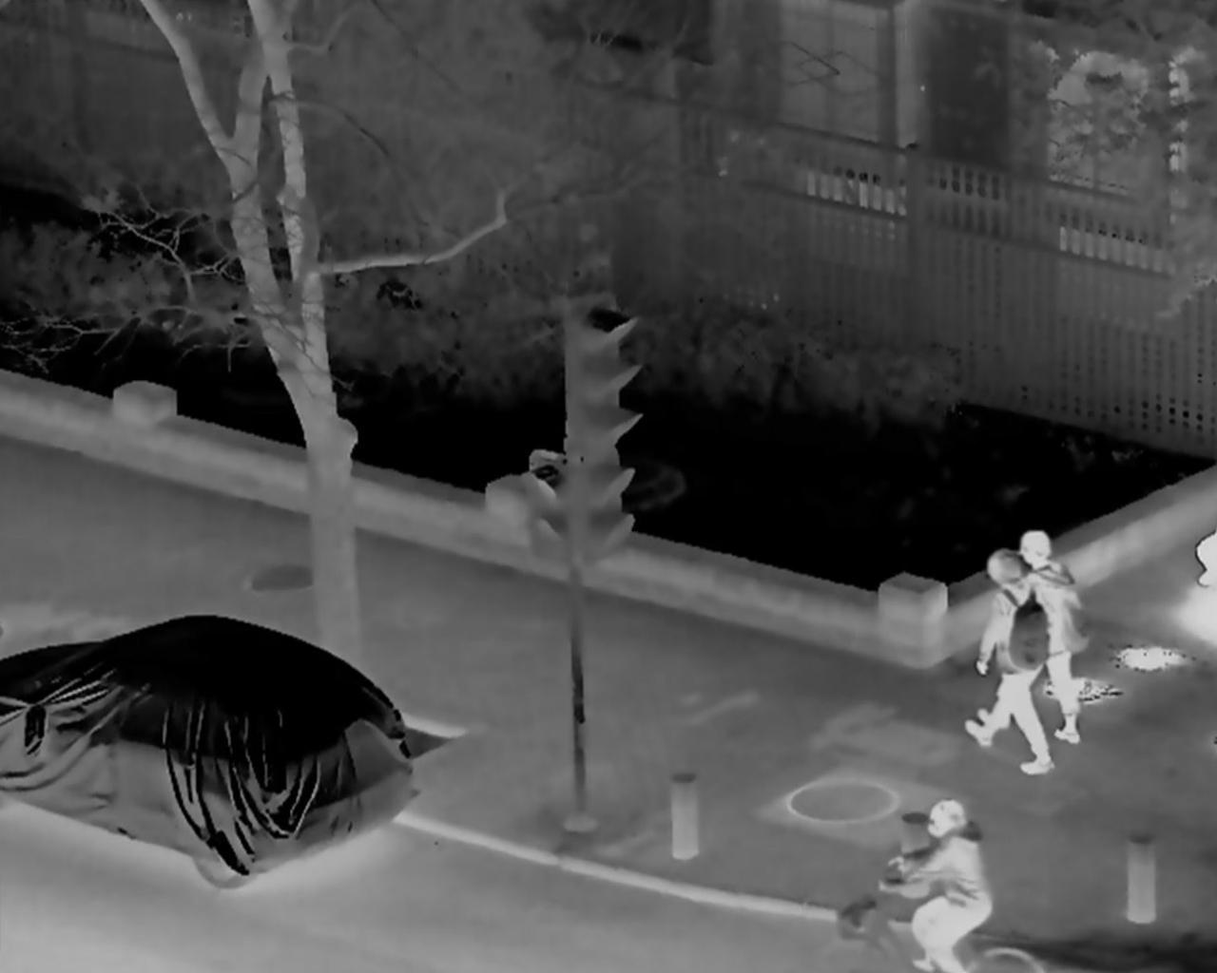person: (983, 530, 1090, 751), (965, 553, 1055, 776), (897, 798, 997, 973)
